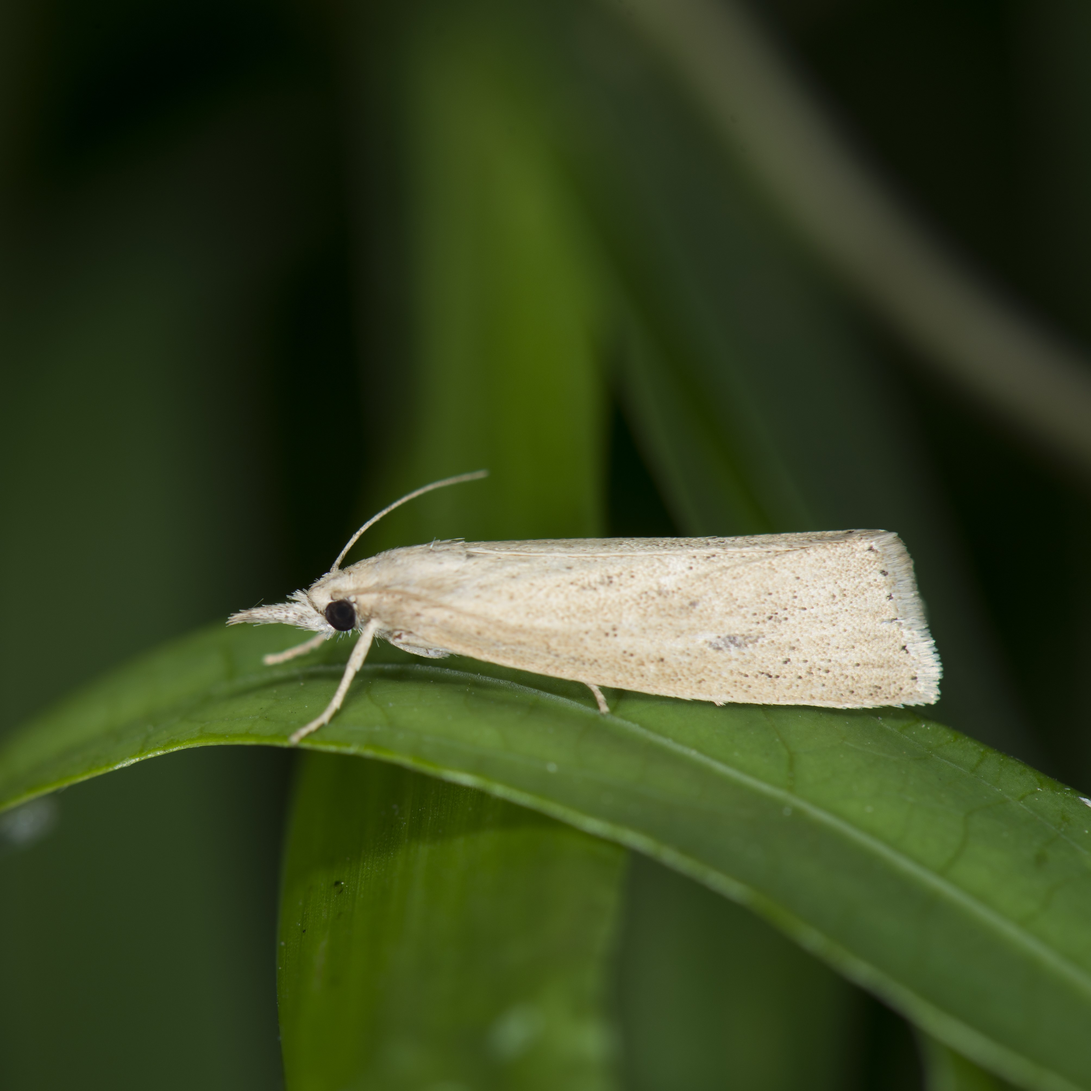Crambidae: (224, 461, 951, 747)
